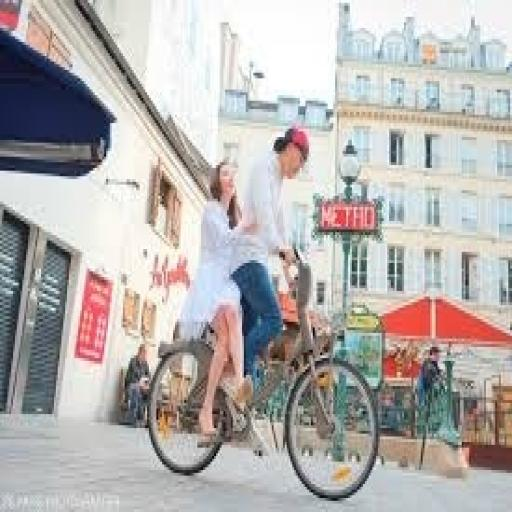cycling: (177, 157, 270, 445)
